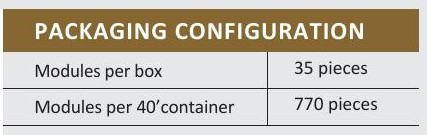table: (1, 44, 425, 133)
table column: (11, 52, 263, 126), (271, 52, 413, 127)
table row: (8, 91, 418, 122), (7, 55, 416, 86)
